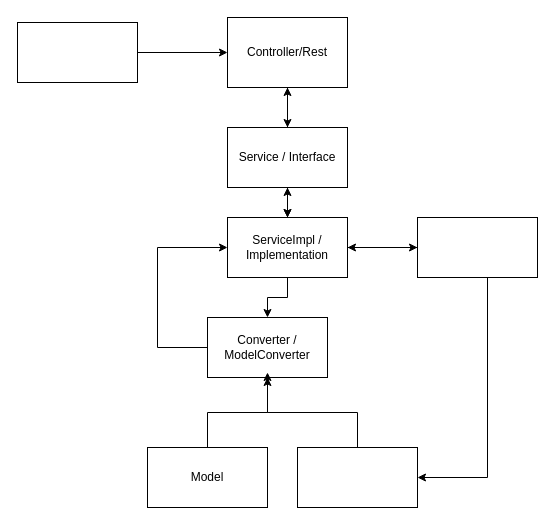
Image size: 555x525. Some labels were removed from this diagram. Here are the shapes that lost their labels. From the top down, the box of each, then its label:
(16, 22, 138, 82): Test / UnitTest
(416, 216, 538, 278): Repository / JDBC
(296, 446, 418, 508): Entity
